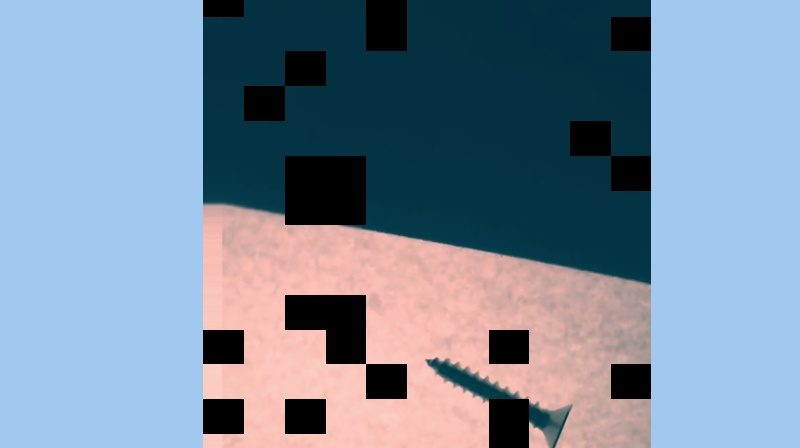S001: (421, 353, 579, 447)
